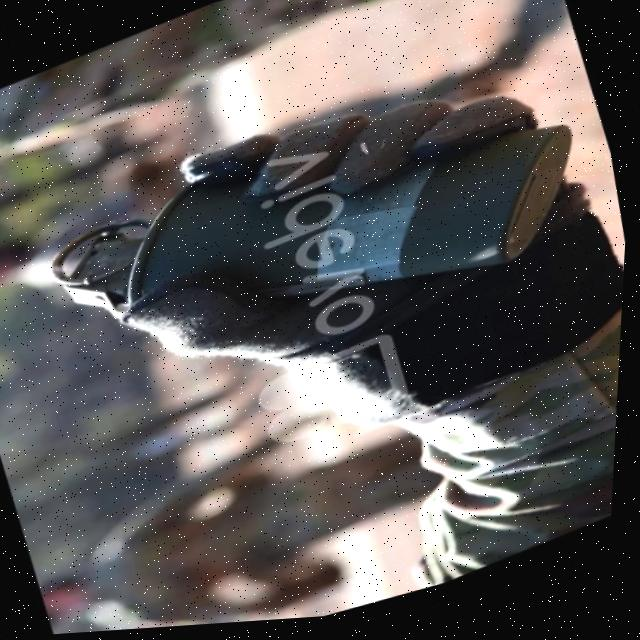grenade: (21, 30, 622, 436)
